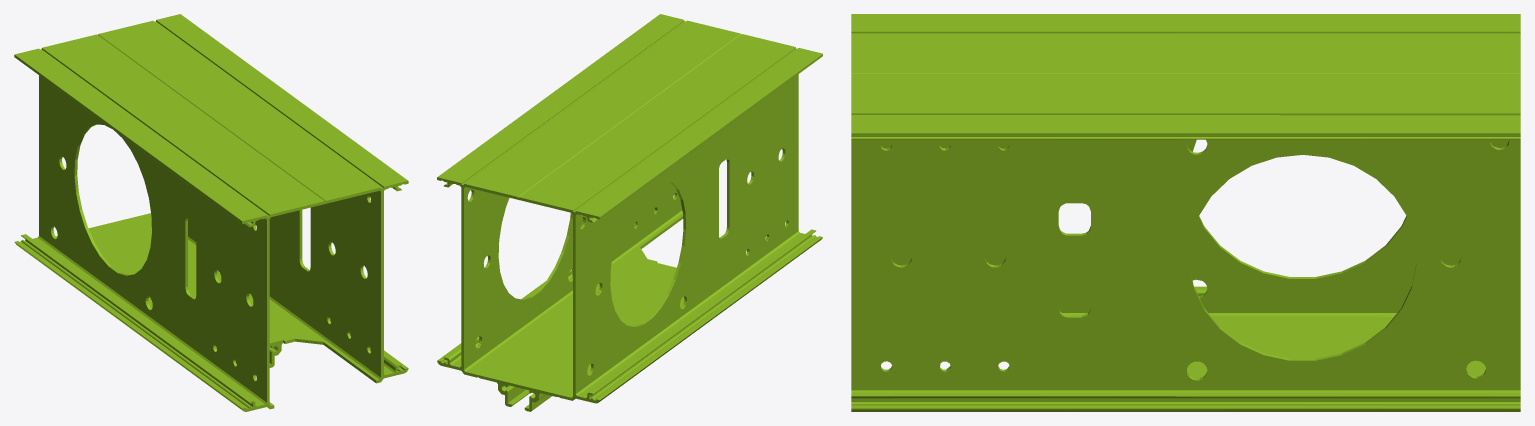
The model's file is arka_alm_profil.glb.
The picture shows the model from 3 angles, left to right: view 1: azimuth 30°, elevation 25°; view 2: azimuth 150°, elevation 25°; view 3: azimuth 270°, elevation 25°; orthographic projection. The views are drawn at different scales.
Visible parts, largest first — view 1: Mesh_Mesh_head_geo.001_lambert2SG.001; view 2: Mesh_Mesh_head_geo.001_lambert2SG.001; view 3: Mesh_Mesh_head_geo.001_lambert2SG.001.
Boxes of the visible parts, <box> form: Mesh_Mesh_head_geo.001_lambert2SG.001: <box>14,14,408,411</box>; Mesh_Mesh_head_geo.001_lambert2SG.001: <box>437,14,822,411</box>; Mesh_Mesh_head_geo.001_lambert2SG.001: <box>851,14,1520,411</box>.
Bounding box in the file's own units: 12 × 14.94 × 28.5.
